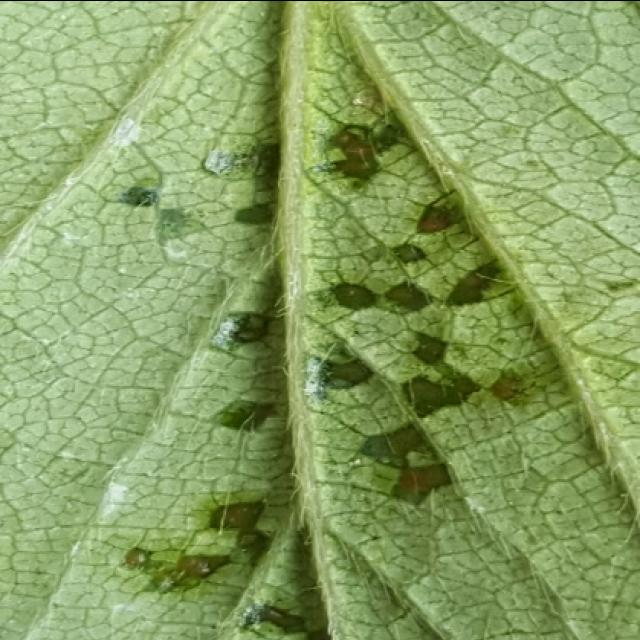Angular Leafspot: (112, 65, 573, 638)
